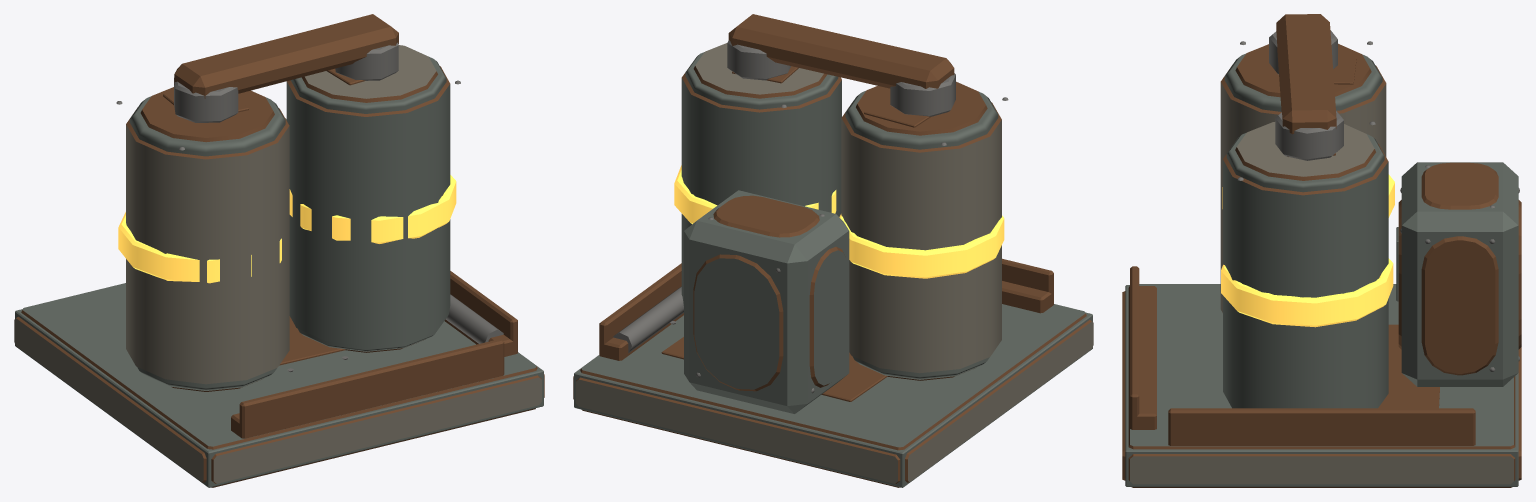
The model's file is R4X_Battery.fbx.
3 views of the same model, side by side, from view 1: azimuth 30°, elevation 25°; view 2: azimuth 150°, elevation 25°; view 3: azimuth 270°, elevation 25° (orthographic). The views are drawn at different scales.
Parts seen in each view (by area): view 1: R4X_Battery_Body; view 2: R4X_Battery_Body; view 3: R4X_Battery_Body.
Boxes of the visible parts, x1=… form: R4X_Battery_Body: x1=14, y1=14, x2=544, y2=487; R4X_Battery_Body: x1=573, y1=14, x2=1093, y2=487; R4X_Battery_Body: x1=1122, y1=14, x2=1521, y2=487.
Size of the model in its own units: 0.52 by 0.495 by 0.52.
